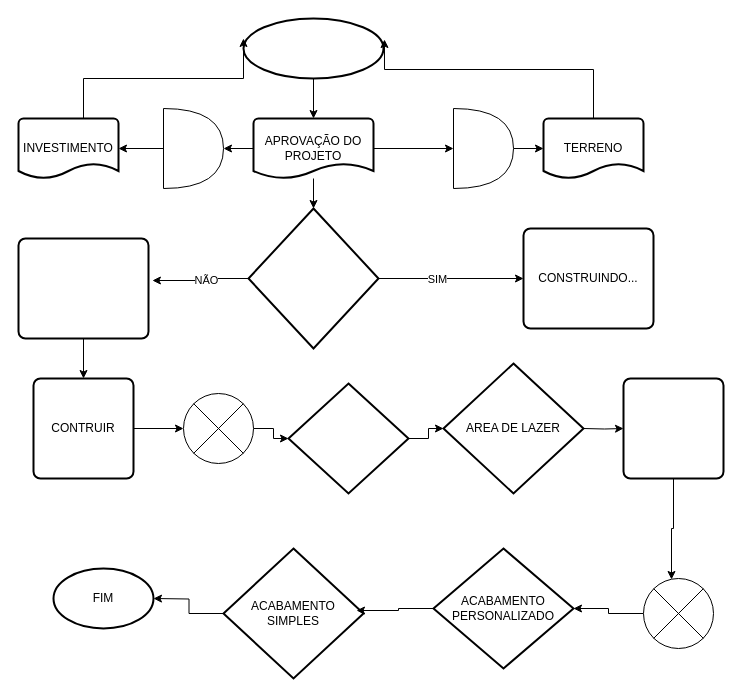
The diagram is 741 pixels wide and 696 high, and some of its shapes have lost their labels. The centre of each missing label's shape, as x and y in pixels:
"CONTRATAR CONSTRUTORA?" goes at (x=313, y=278).
"CONTRATAR UM MESTRE DE OBRAS" goes at (x=83, y=288).
"CONTRUÇÃO FINALIZADA" goes at (x=673, y=428).
"INICIO" goes at (x=313, y=48).
"PISCINA" goes at (x=348, y=438).
